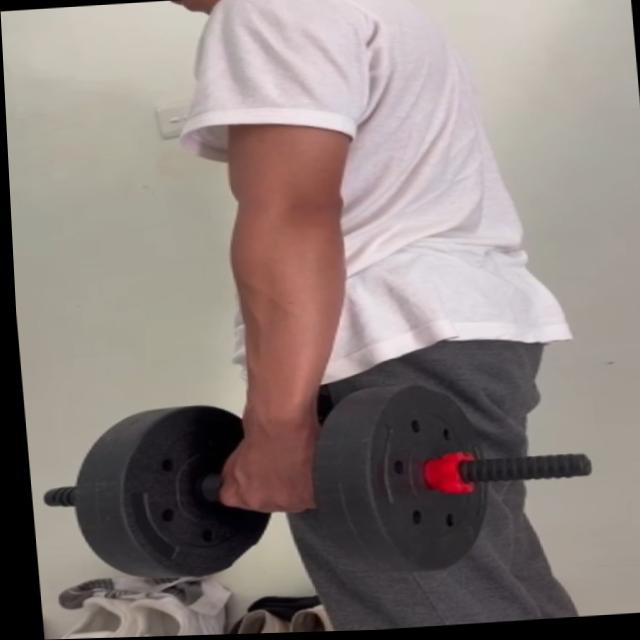hammer: (64, 370, 499, 600)
